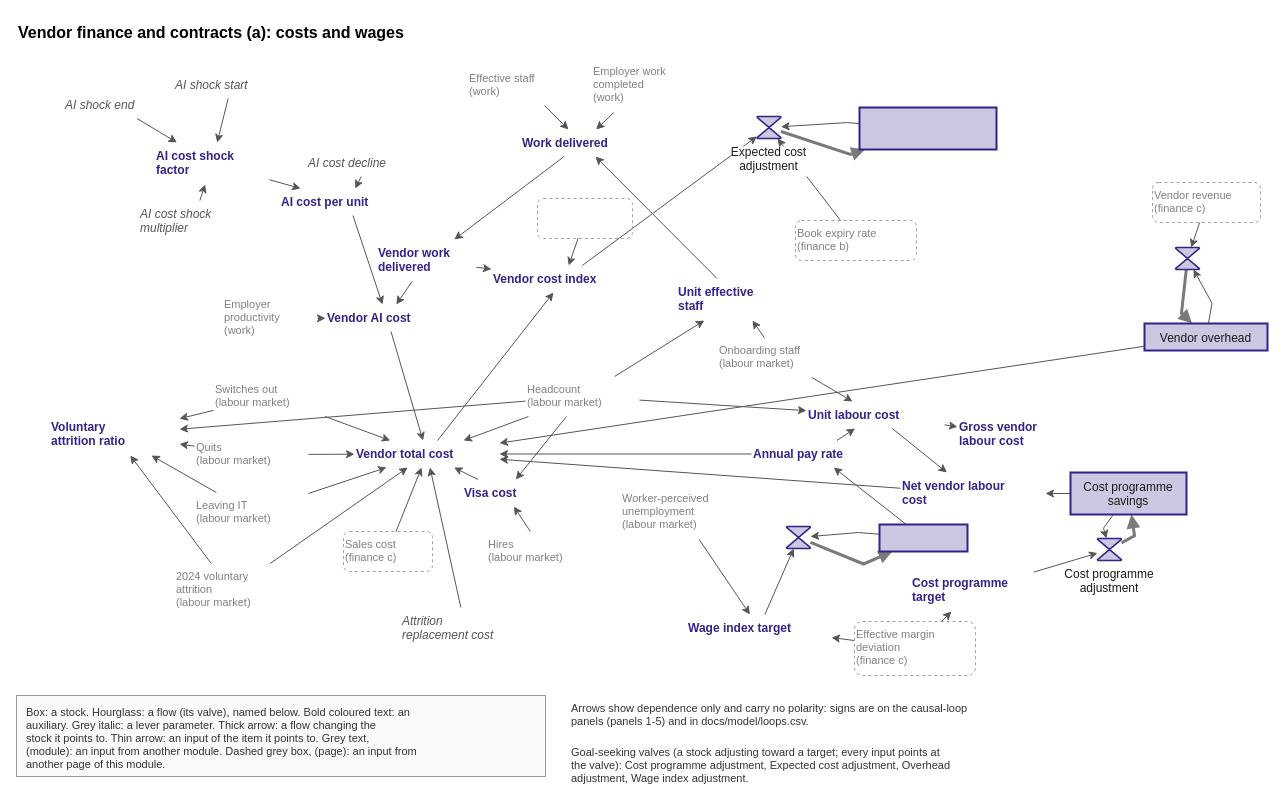
Some shapes in this 1284 by 810 pixel diagram are drawn without their labels. Each missing label, with the centre of its shape:
"Base revenue (finance c)" belongs at [584,218].
"Expected delivery cost" belongs at [927,128].
"Overhead adjustment" belongs at [1187,258].
"Wage index" belongs at [923,537].
"Wage index adjustment" belongs at [798,537].
